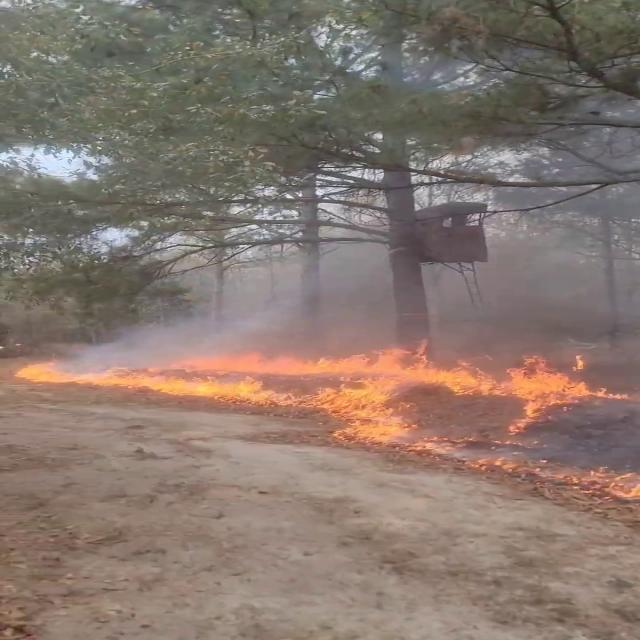Fire: (11, 334, 633, 446)
Smoke: (124, 218, 612, 363)
